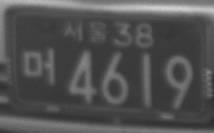1: (131, 51, 161, 109)
3: (111, 20, 134, 47)
4: (67, 48, 98, 104)
6: (99, 49, 130, 106)
8: (134, 20, 155, 49)
9: (163, 52, 194, 112)
머: (21, 45, 56, 86)
서울_O: (61, 20, 111, 44)
